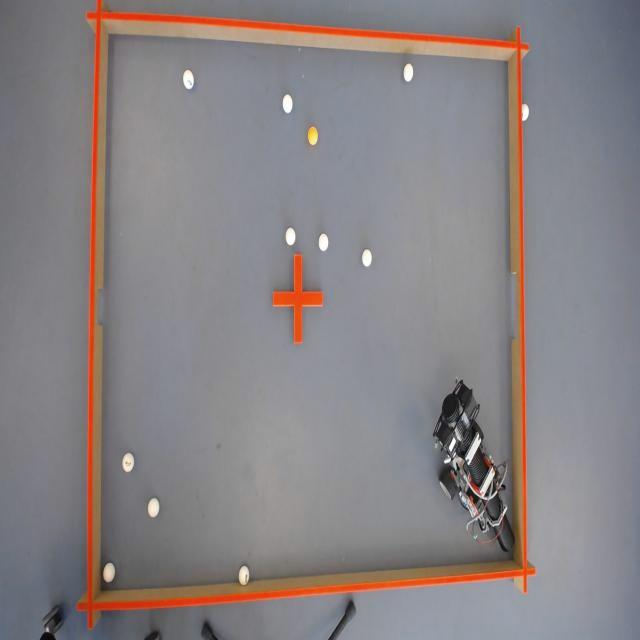orange-golf-balls: (308, 125, 318, 144)
robot: (434, 380, 517, 552)
white-golf-balls: (102, 562, 115, 583), (121, 452, 134, 472), (238, 565, 250, 586), (182, 68, 194, 88), (147, 498, 159, 518), (282, 92, 293, 112), (285, 226, 296, 244), (404, 62, 414, 80), (319, 232, 329, 250), (362, 248, 372, 266), (523, 102, 530, 120)
